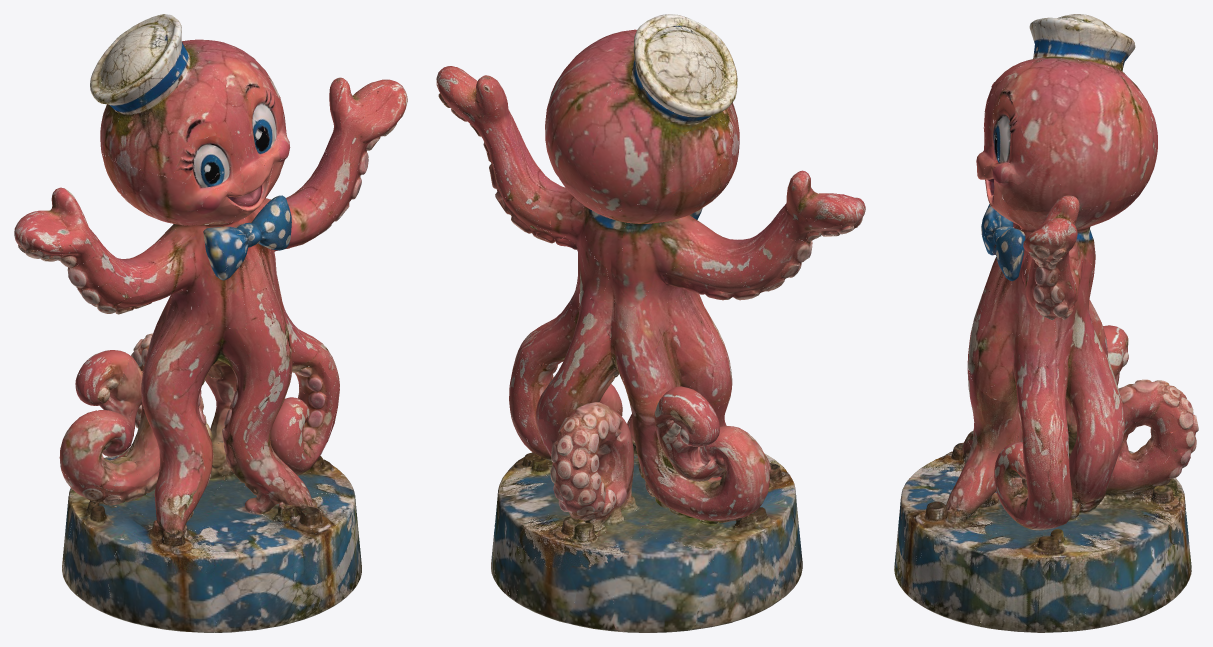
File: statua_polpo_A.glb
3 views of the same model, side by side, from view 1: azimuth 30°, elevation 25°; view 2: azimuth 150°, elevation 25°; view 3: azimuth 270°, elevation 25° (orthographic). The views are drawn at different scales.
Visible parts, largest first — view 1: statua_polpo_A; view 2: statua_polpo_A; view 3: statua_polpo_A.
Part boxes in pixels (x1,y1,x2,y2): statua_polpo_A: [14, 14, 407, 632]; statua_polpo_A: [436, 14, 865, 632]; statua_polpo_A: [894, 14, 1198, 632].
Size of the model in its own units: 1.76 by 2.3 by 1.18.
1 material, 1 textured.
